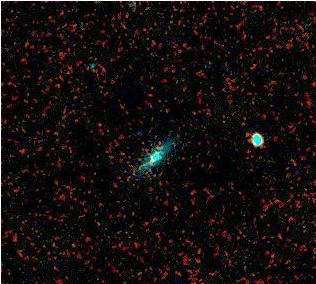star: (94, 178, 124, 208)
